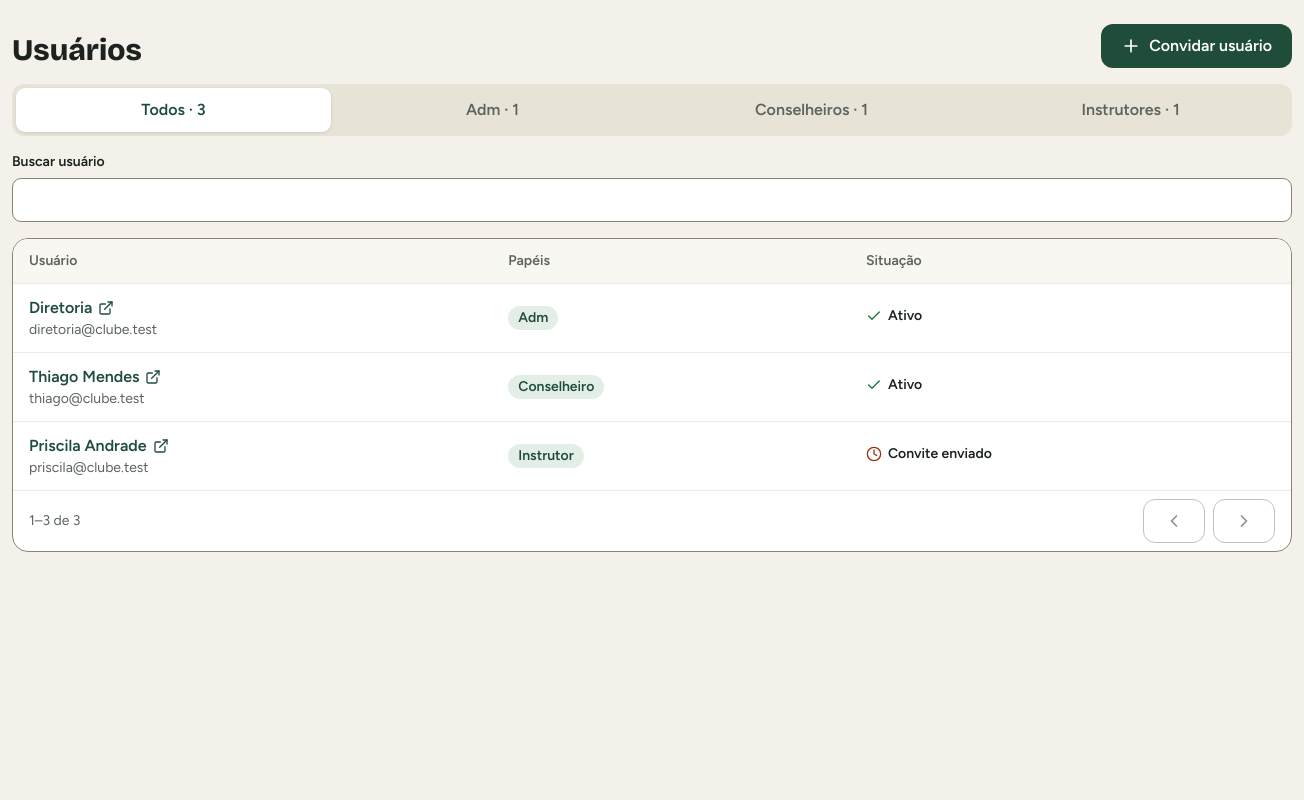
Test: lista de usuários › a aba filtra por papel
Click the tab "Conselheiros · 1" at {"x": 812, "y": 110}, box x1=654 y1=88 x2=969 y2=132
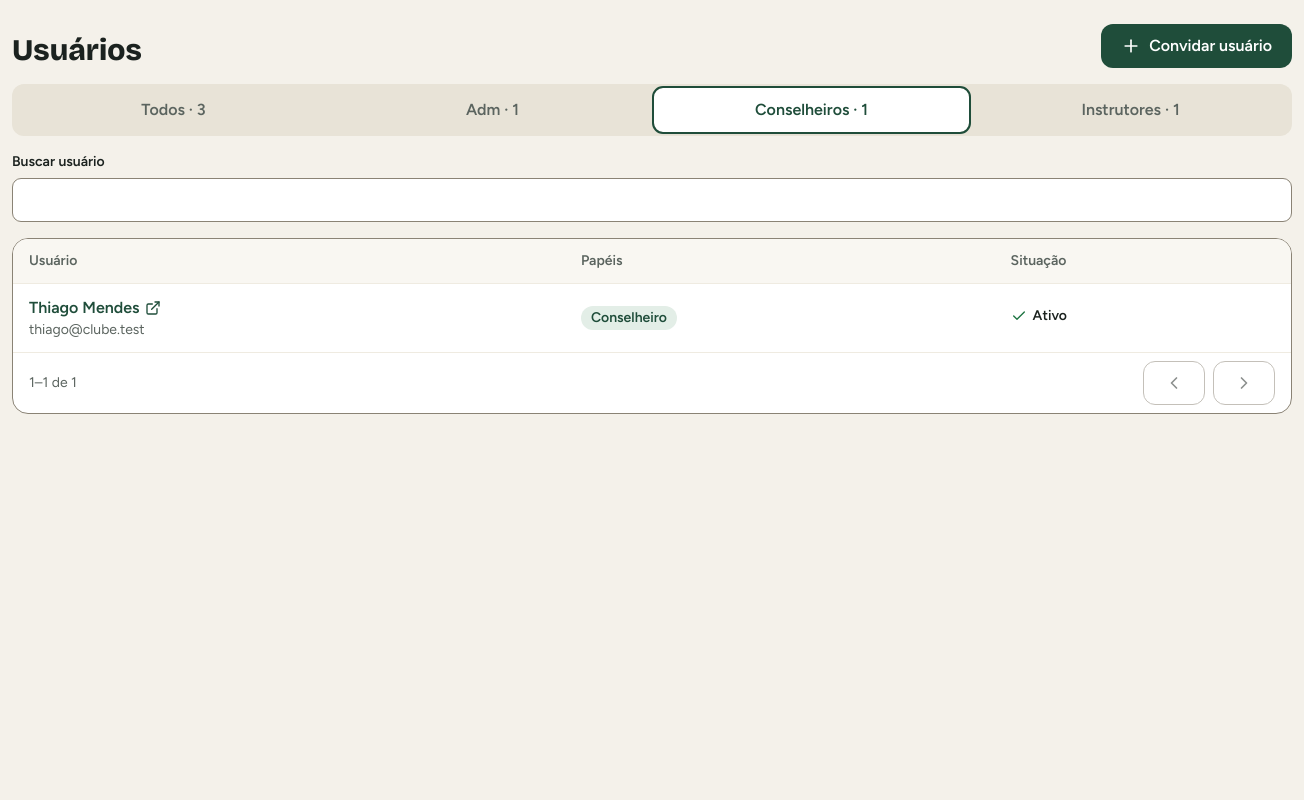
Expected: the text "Thiago Mendes" is shown, x1=29 y1=296 x2=162 y2=320
Expected: the link "Diretoria" is gone
